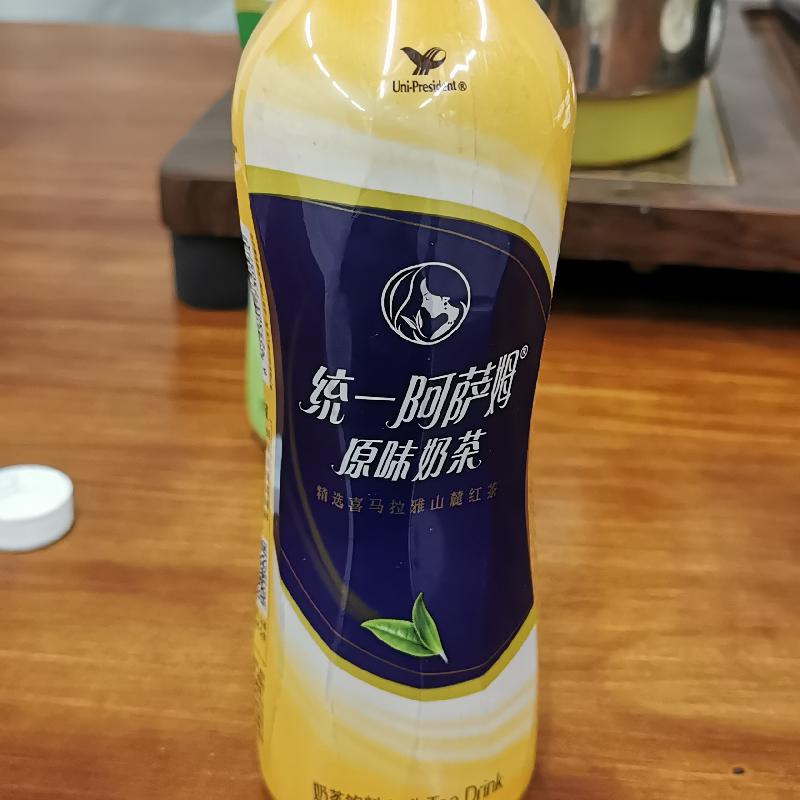bottles: (219, 6, 582, 799)
